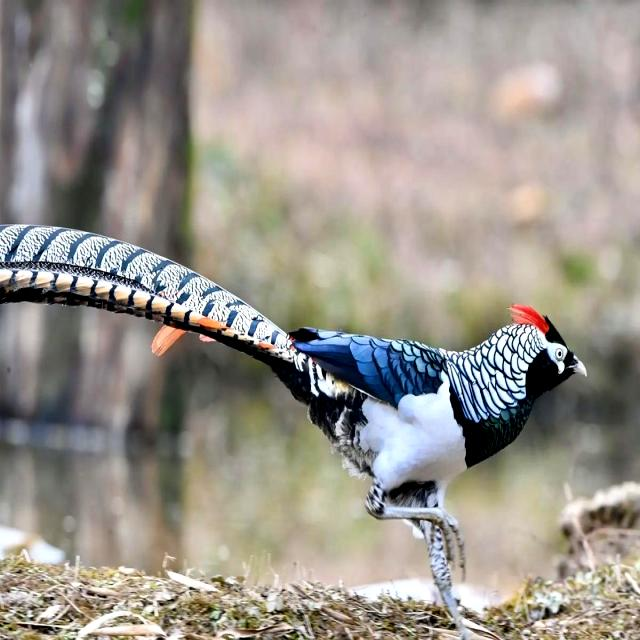Chrysolophus amherstiae: (0, 225, 298, 366)
